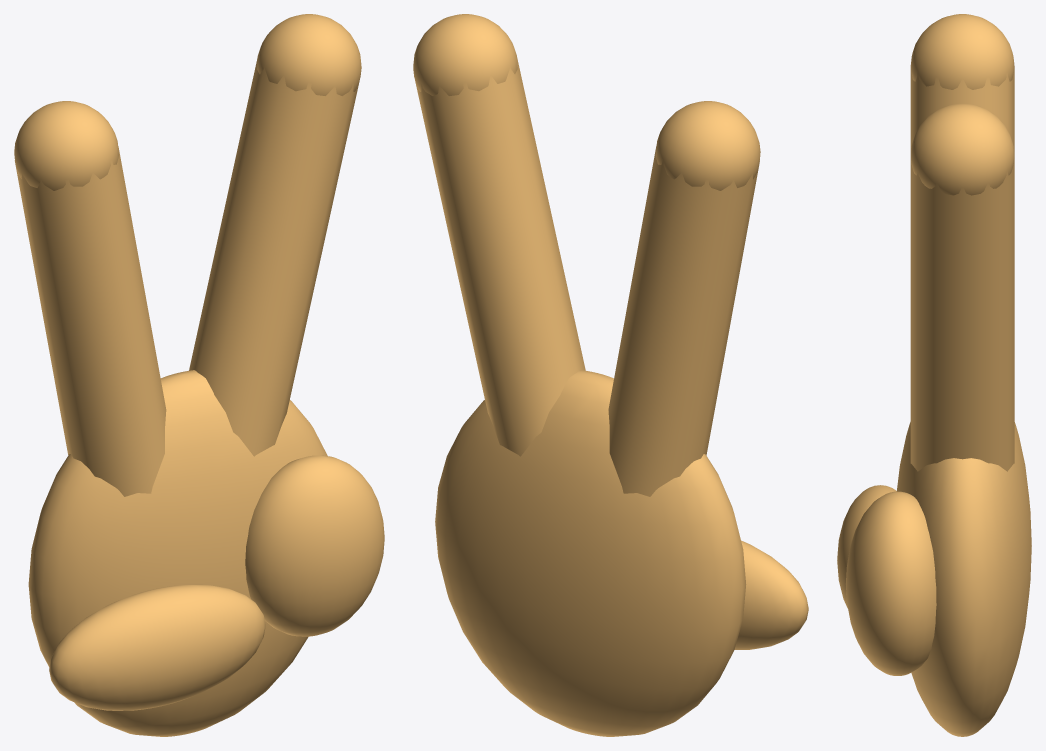
The model's file is SM_DoubleDaub.fbx.
The picture shows the model from 3 angles, left to right: view 1: azimuth 30°, elevation 25°; view 2: azimuth 150°, elevation 25°; view 3: azimuth 270°, elevation 25°; orthographic projection.
Parts seen in each view (by area): view 1: SM_DoubleDaub; view 2: SM_DoubleDaub; view 3: SM_DoubleDaub.
Part boxes in pixels (x1,y1,x2,y2): SM_DoubleDaub: (14, 14, 384, 736); SM_DoubleDaub: (413, 14, 808, 736); SM_DoubleDaub: (837, 14, 1031, 736).
Size of the model in its own units: 2.62 by 5.29 by 10.
